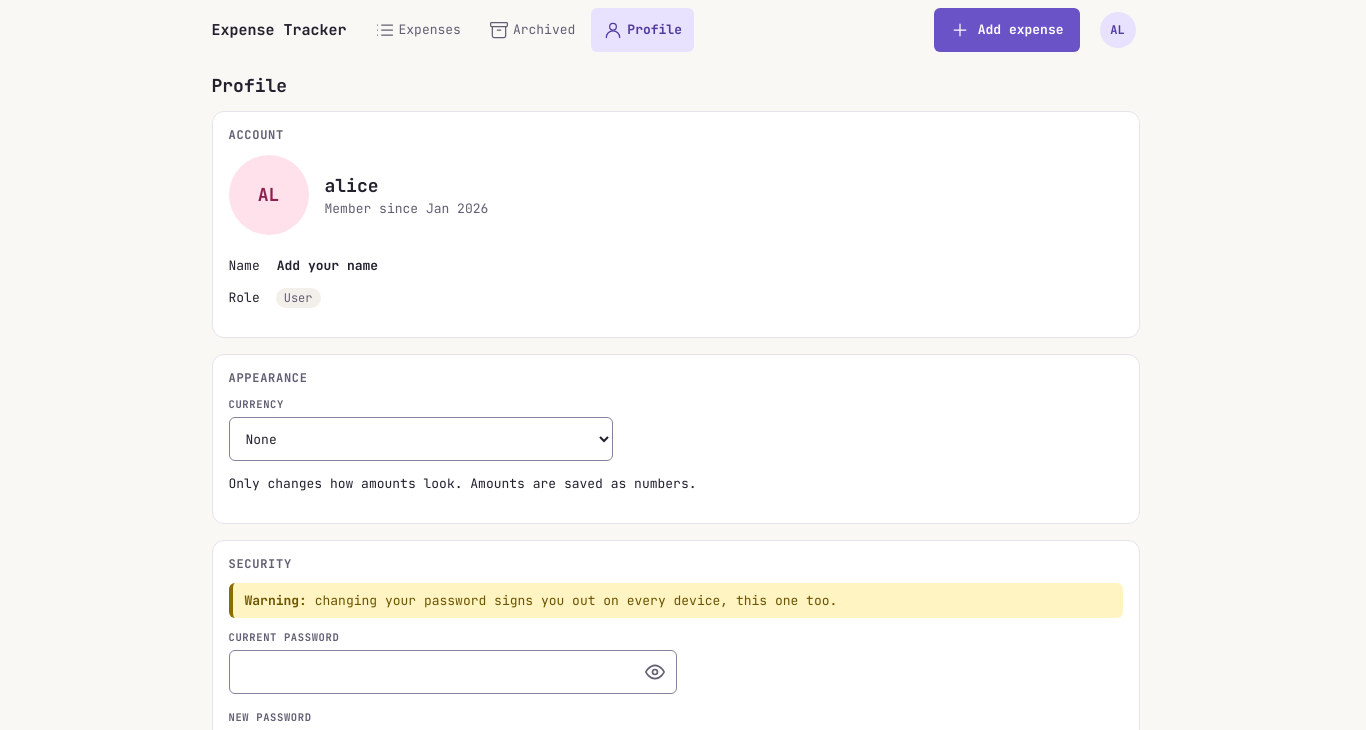
display name › puts INVALID_DISPLAY_NAME on the field and keeps the form open
Check: the heading "Profile" is shown, box [212,74,287,97]
Click the button "Add your name" at (327, 266), box [264,248,391,284]
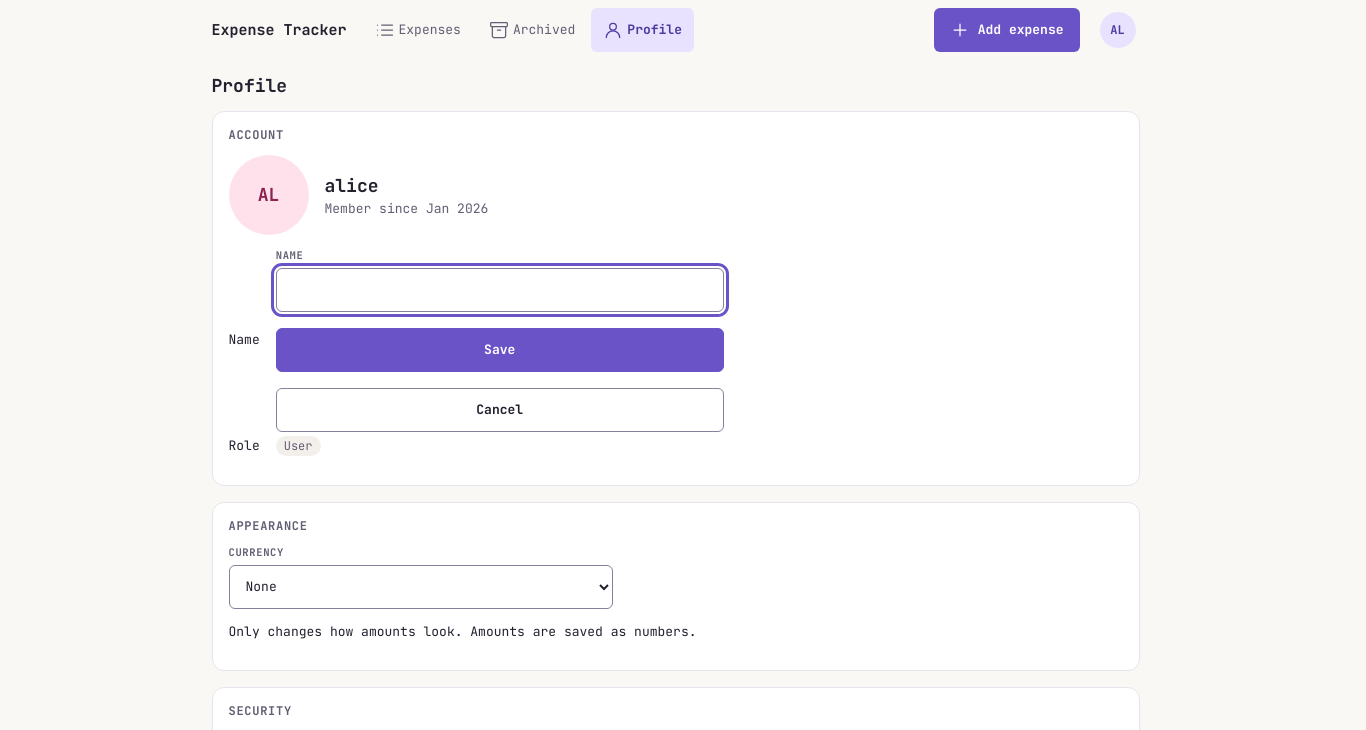
Type "x" into the field labelled "Name" at (500, 290), box [276,268,724,312]
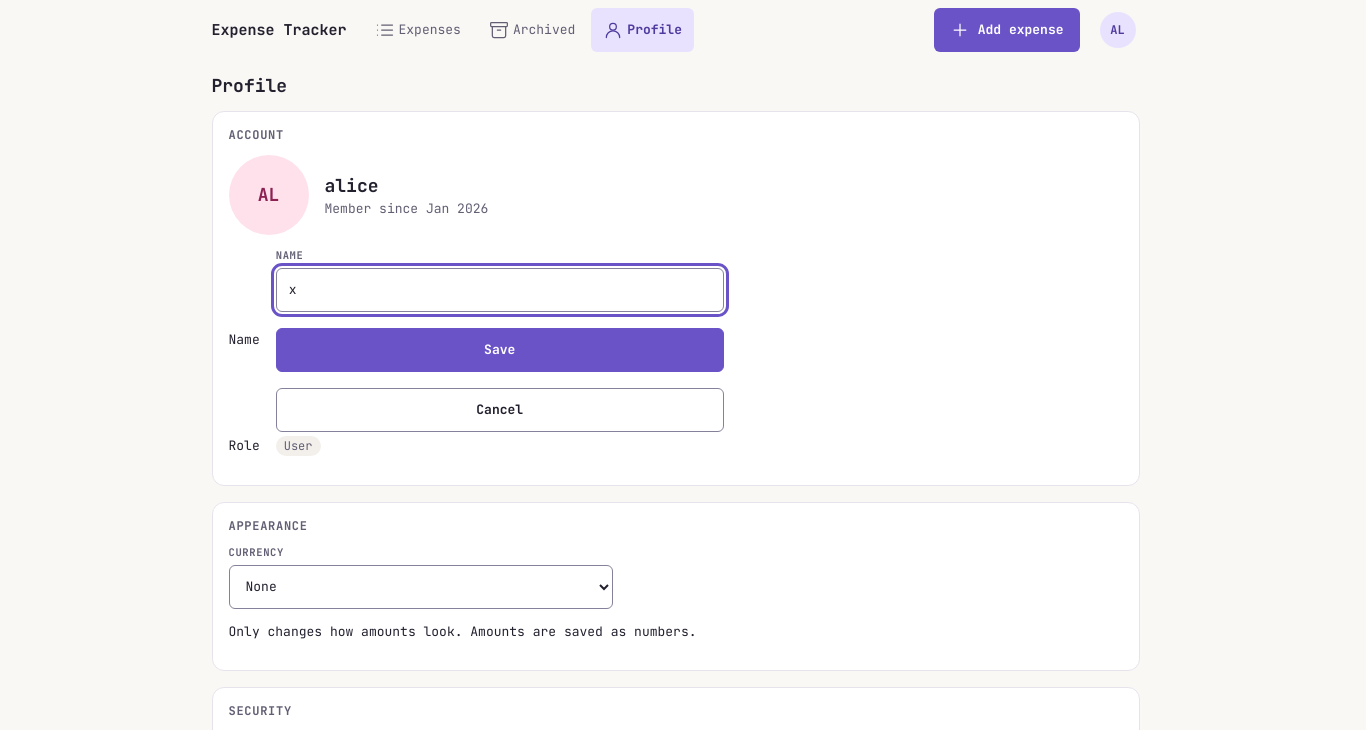
Click the button "Save" at (500, 350), box [276,328,724,372]
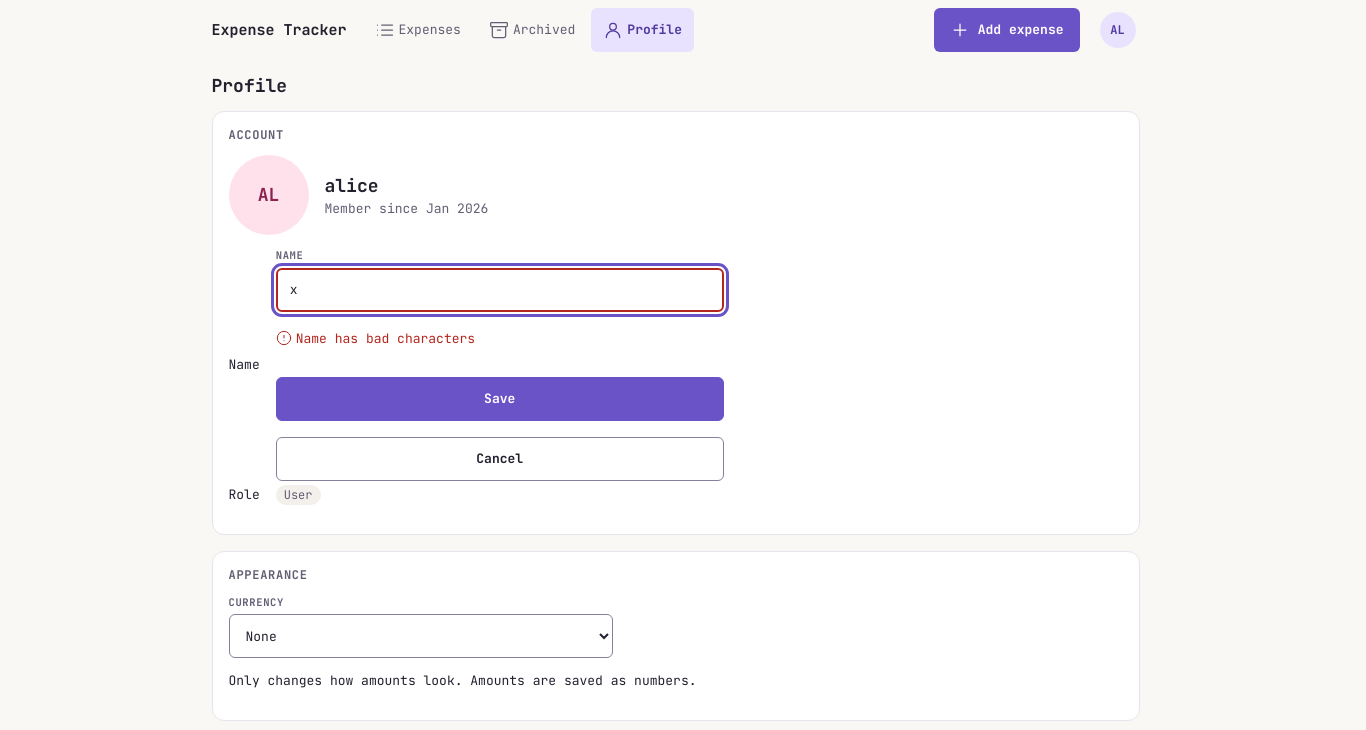
Check: the text "Name has bad characters" is shown, box [276,330,475,347]
